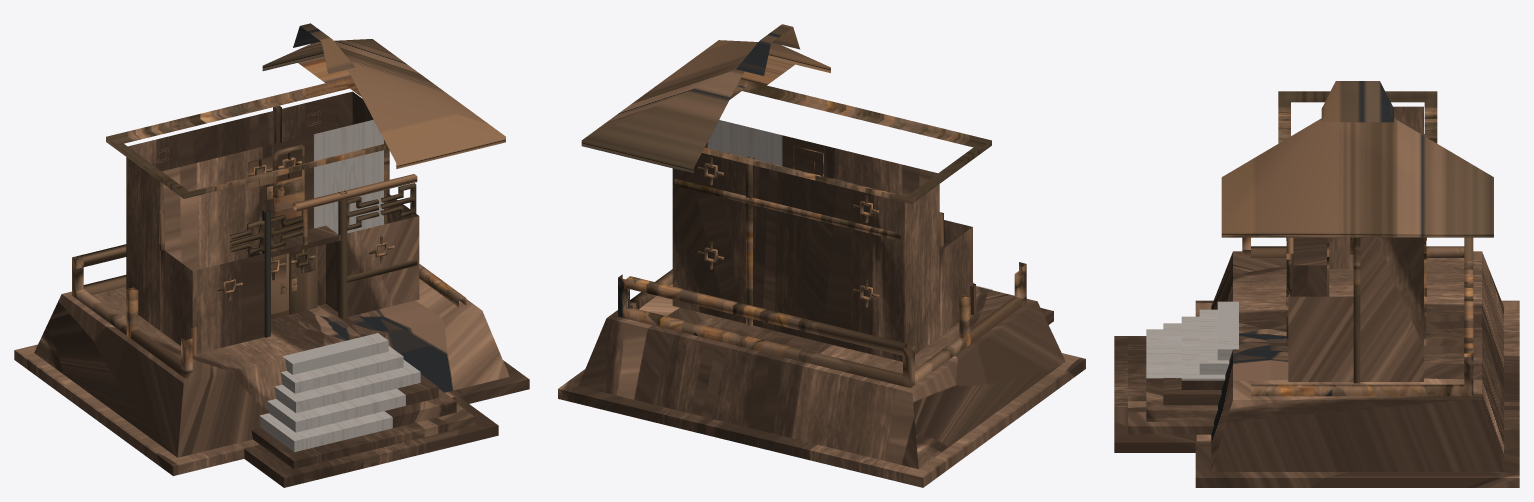
File: SmallHouse.fbx
3 renders of one model, left to right at view 1: azimuth 30°, elevation 25°; view 2: azimuth 150°, elevation 25°; view 3: azimuth 270°, elevation 25°, orthographic. The views are drawn at different scales.
Visible parts, largest first — view 1: defaultMaterial; view 2: defaultMaterial; view 3: defaultMaterial.
Part boxes in pixels (x1,y1,x2,y2): defaultMaterial: (14, 23, 529, 487); defaultMaterial: (558, 24, 1085, 487); defaultMaterial: (1114, 81, 1519, 487).
Size of the model in its own units: 398 by 365 by 384.
